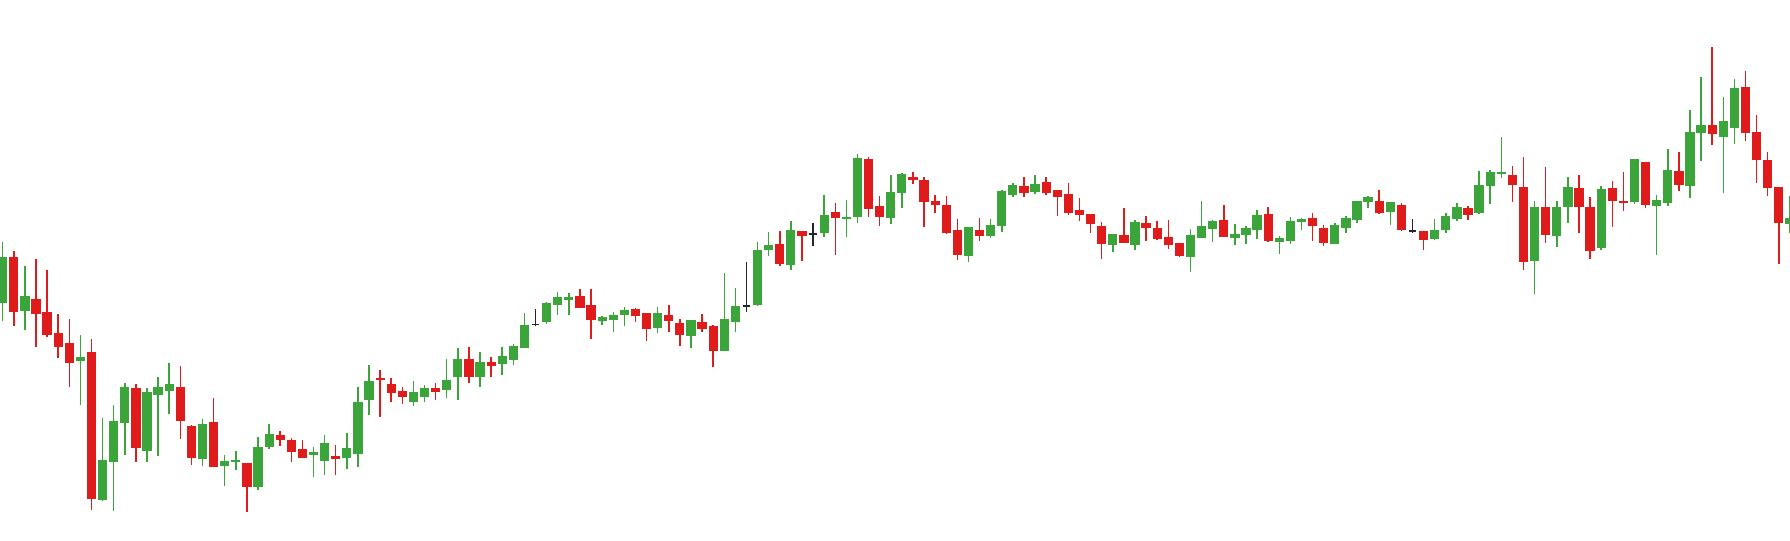buy: (1418, 187, 1541, 294)
